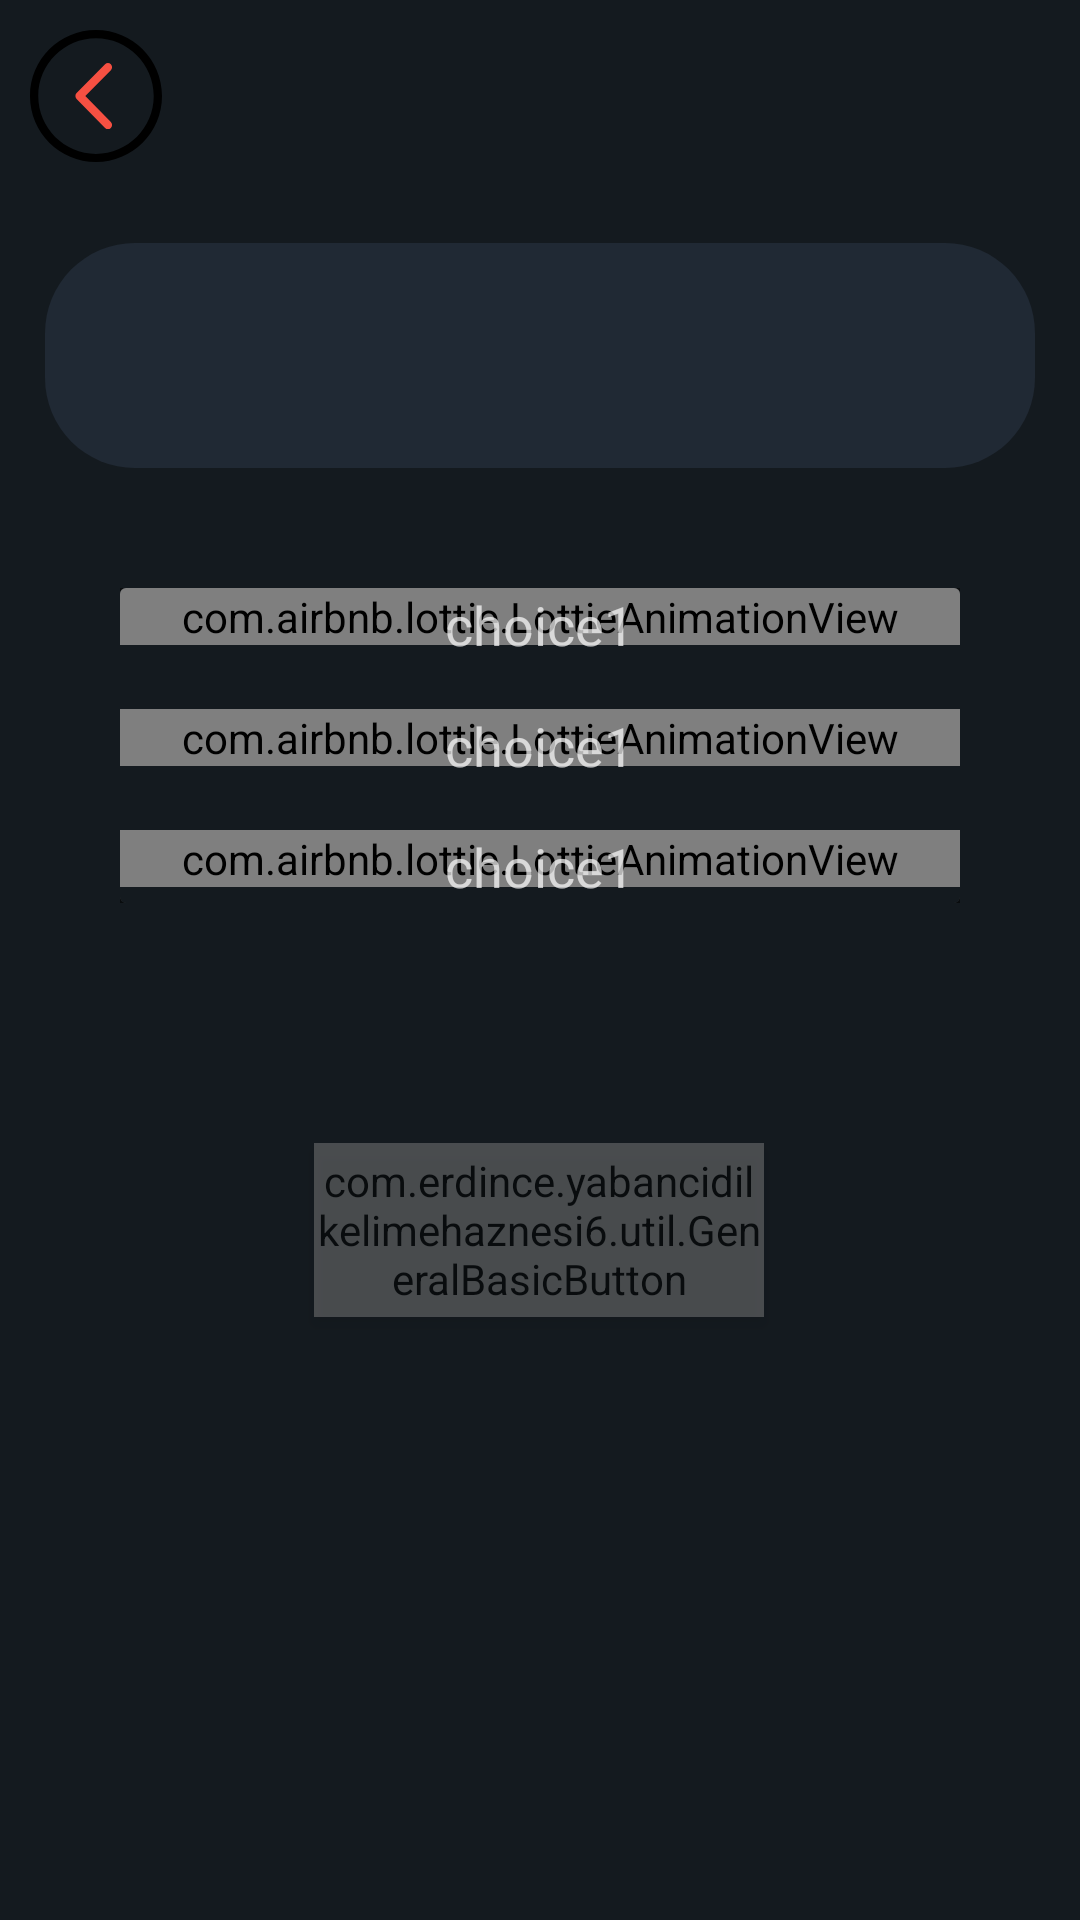

Icon click points for this 1080px×1920px phone screenshot, format (x,y):
back: (96,96)
